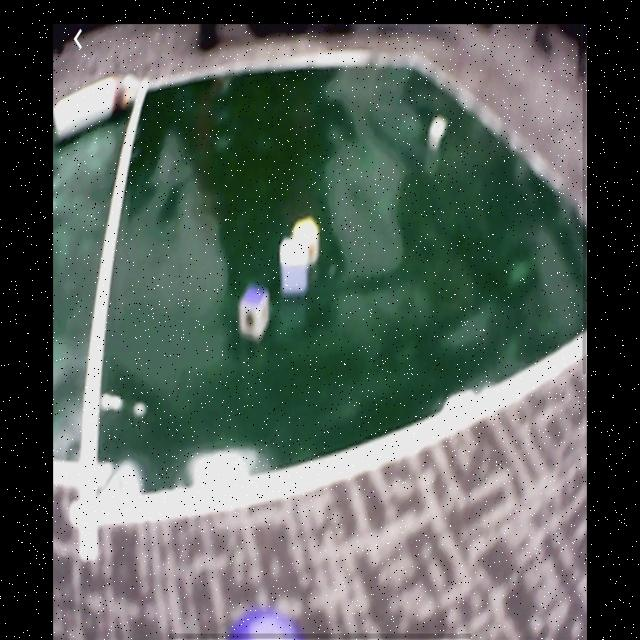ball: (230, 609, 306, 640)
